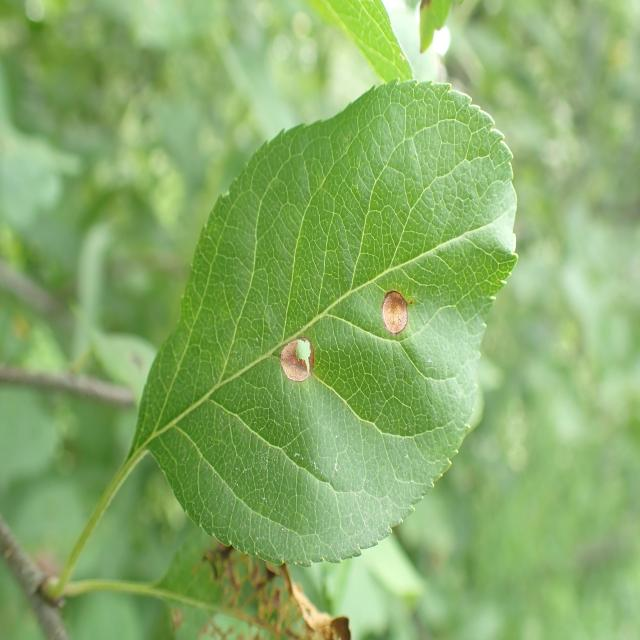Black Rot: (264, 327, 320, 404), (372, 290, 428, 352)
